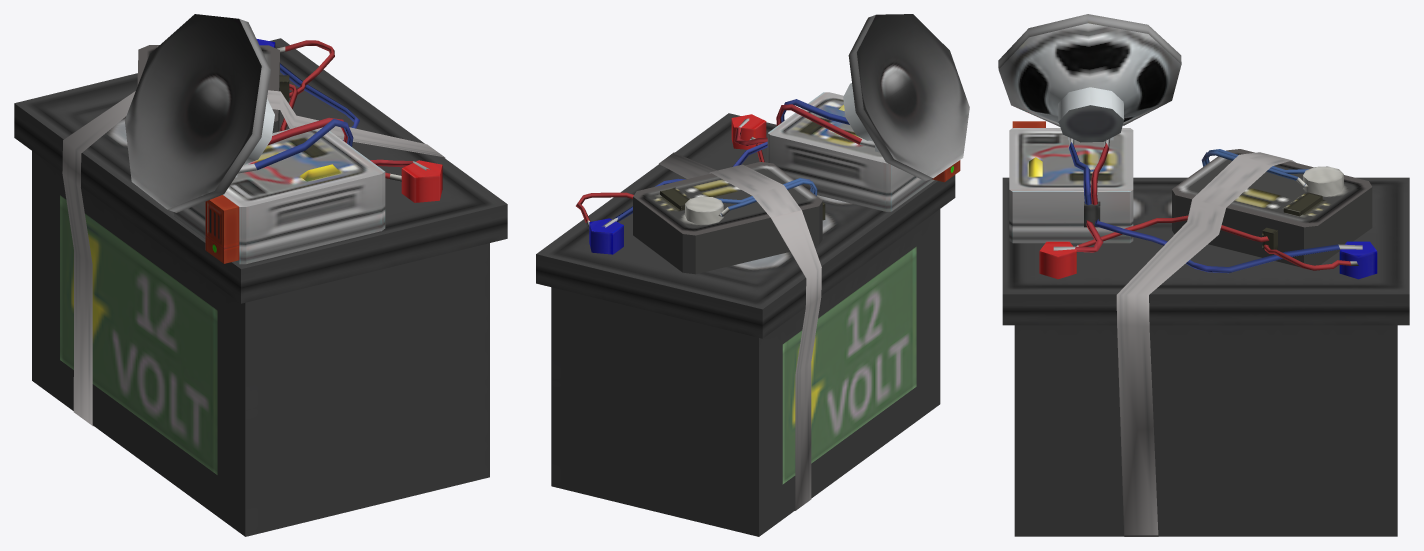
The model's file is BigNoiseTrapTrigger_Mesh.fbx.
3 renders of one model, left to right at view 1: azimuth 30°, elevation 25°; view 2: azimuth 150°, elevation 25°; view 3: azimuth 270°, elevation 25°, orthographic. The views are drawn at different scales.
Parts seen in each view (by area): view 1: BigNoiseTrapTrigger; view 2: BigNoiseTrapTrigger; view 3: BigNoiseTrapTrigger.
Part boxes in pixels (left/top/right/bottom): BigNoiseTrapTrigger: left=14, top=14, right=507, bottom=536; BigNoiseTrapTrigger: left=536, top=14, right=969, bottom=536; BigNoiseTrapTrigger: left=998, top=14, right=1409, bottom=536.
Bounding box in the file's own units: 37.7 × 55.92 × 48.36.
